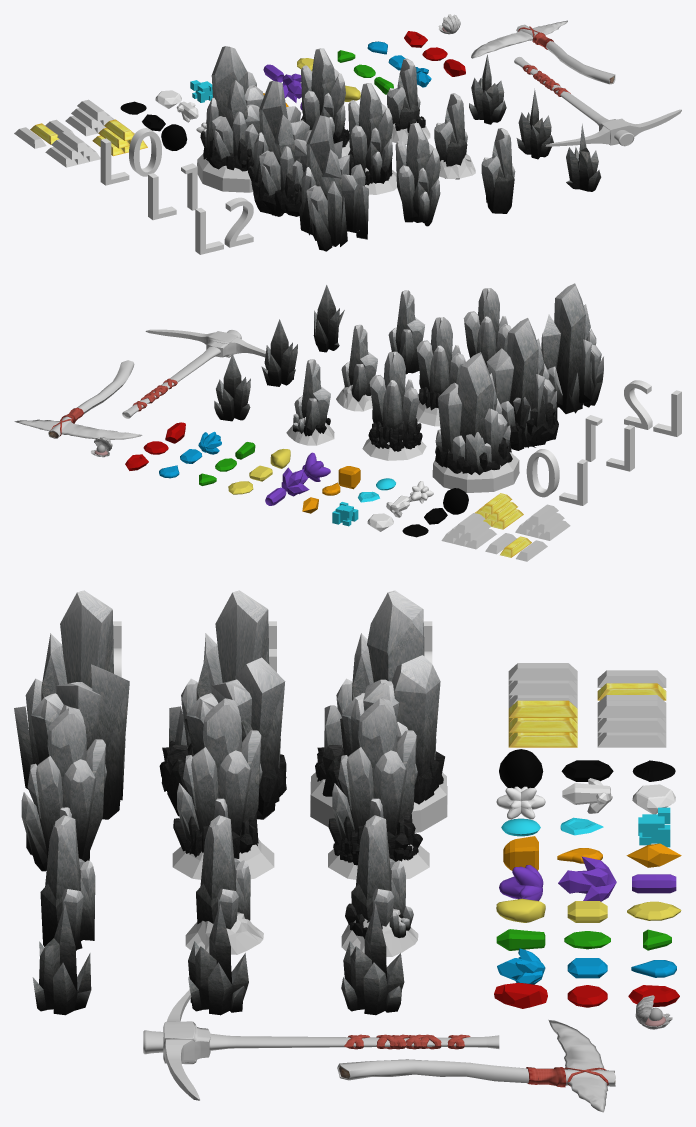
File: gemas.fbx
3 views of the same model, one above another, from view 1: azimuth 30°, elevation 25°; view 2: azimuth 150°, elevation 25°; view 3: azimuth 270°, elevation 25° (orthographic). The views are drawn at different scales.
Parts seen in each view (by area): view 1: L0 (×4), L2 (×3), L1 (×3), Pico_de_Hierro, Pico_de_Piedra, typeMesh1, typeMesh3, L3, L4, typeMesh2, Lingote_2, Lingote_6 (+4 smaller); view 2: L0 (×4), L1 (×3), L2 (×3), Pico_de_Hierro, Pico_de_Piedra, typeMesh1, typeMesh3, L3, L4, typeMesh2, Lingote_6, Lingote_2 (+6 smaller); view 3: L0 (×4), L1 (×3), L2 (×3), Pico_de_Hierro, Pico_de_Piedra, L3, L4, Lingote_6, Lingote_3, Lingote_2, Joya_14, Joya_9 (+18 smaller).
Part boxes in pixels (x1=…): L0 (×4): x1=197, y1=46, x2=506, y2=192; L2 (×3): x1=299, y1=115, x2=515, y2=251; L1 (×3): x1=248, y1=81, x2=475, y2=216; Pico_de_Hierro: x1=514, y1=57, x2=681, y2=146; Pico_de_Piedra: x1=471, y1=20, x2=615, y2=84; typeMesh1: x1=100, y1=128, x2=161, y2=185; typeMesh3: x1=195, y1=197, x2=253, y2=254; L3: x1=516, y1=88, x2=553, y2=159; L4: x1=566, y1=123, x2=601, y2=191; typeMesh2: x1=148, y1=163, x2=197, y2=220; Lingote_2: x1=45, y1=131, x2=100, y2=167; Lingote_6: x1=65, y1=99, x2=114, y2=136; L0 (×4): x1=214, y1=351, x2=519, y2=492; L1 (×3): x1=336, y1=317, x2=558, y2=450; L2 (×3): x1=388, y1=283, x2=603, y2=413; Pico_de_Hierro: x1=122, y1=329, x2=265, y2=418; Pico_de_Piedra: x1=14, y1=360, x2=142, y2=439; typeMesh1: x1=526, y1=449, x2=587, y2=505; typeMesh3: x1=624, y1=380, x2=681, y2=436; L3: x1=261, y1=319, x2=297, y2=386; L4: x1=313, y1=285, x2=344, y2=352; typeMesh2: x1=585, y1=415, x2=634, y2=471; Lingote_6: x1=441, y1=513, x2=496, y2=549; Lingote_2: x1=515, y1=504, x2=570, y2=540; L0 (×4): x1=310, y1=590, x2=447, y2=1015; L1 (×3): x1=159, y1=590, x2=286, y2=954; L2 (×3): x1=14, y1=590, x2=129, y2=950; Pico_de_Hierro: x1=143, y1=989, x2=499, y2=1100; Pico_de_Piedra: x1=337, y1=1019, x2=615, y2=1112; L3: x1=188, y1=903, x2=248, y2=1015; L4: x1=32, y1=903, x2=91, y2=1015; Lingote_6: x1=597, y1=700, x2=666, y2=747; Lingote_3: x1=508, y1=700, x2=577, y2=747; Lingote_2: x1=508, y1=663, x2=577, y2=708; Joya_14: x1=558, y1=856, x2=616, y2=901; Joya_9: x1=499, y1=749, x2=543, y2=788.
Bounding box in the file's own units: 45.67 × 10.8 × 30.1.
